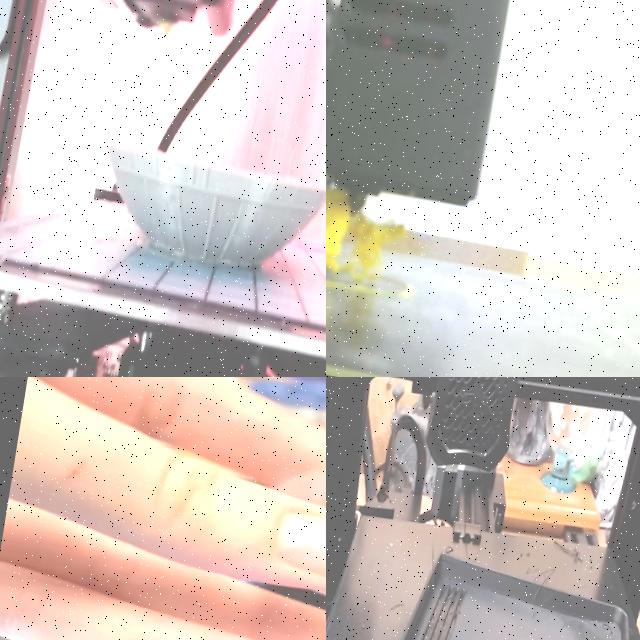spaghetti: (326, 188, 415, 297), (548, 529, 604, 579), (440, 533, 458, 555)
